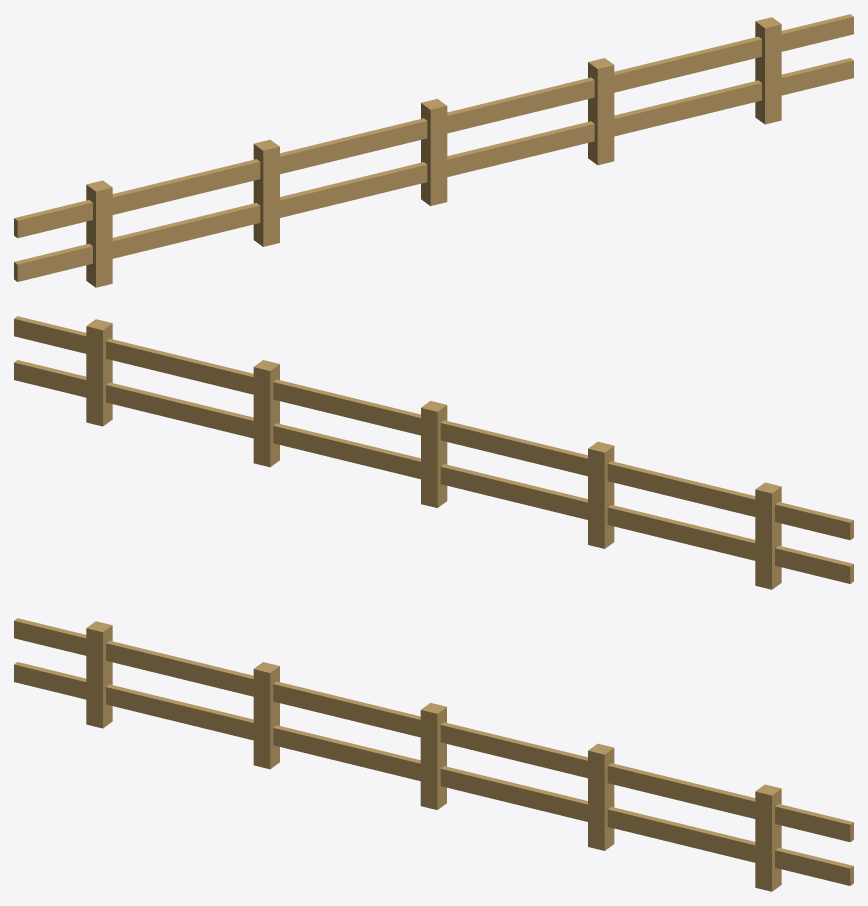
Rendered from fence-mid-piece-x5.glb.
The picture shows the model from 3 angles, top to bottom: view 1: azimuth 30°, elevation 25°; view 2: azimuth 150°, elevation 25°; view 3: azimuth 330°, elevation 25°; orthographic projection.
Parts seen in each view (by area): view 1: fence-mid-piece-x5; view 2: fence-mid-piece-x5; view 3: fence-mid-piece-x5.
Part boxes in pixels (box(x1,y1,x2,y2)): fence-mid-piece-x5: box(14, 14, 853, 287); fence-mid-piece-x5: box(14, 316, 853, 589); fence-mid-piece-x5: box(14, 618, 853, 891).
Size of the model in its own units: 10 by 1.1 by 0.2002.
